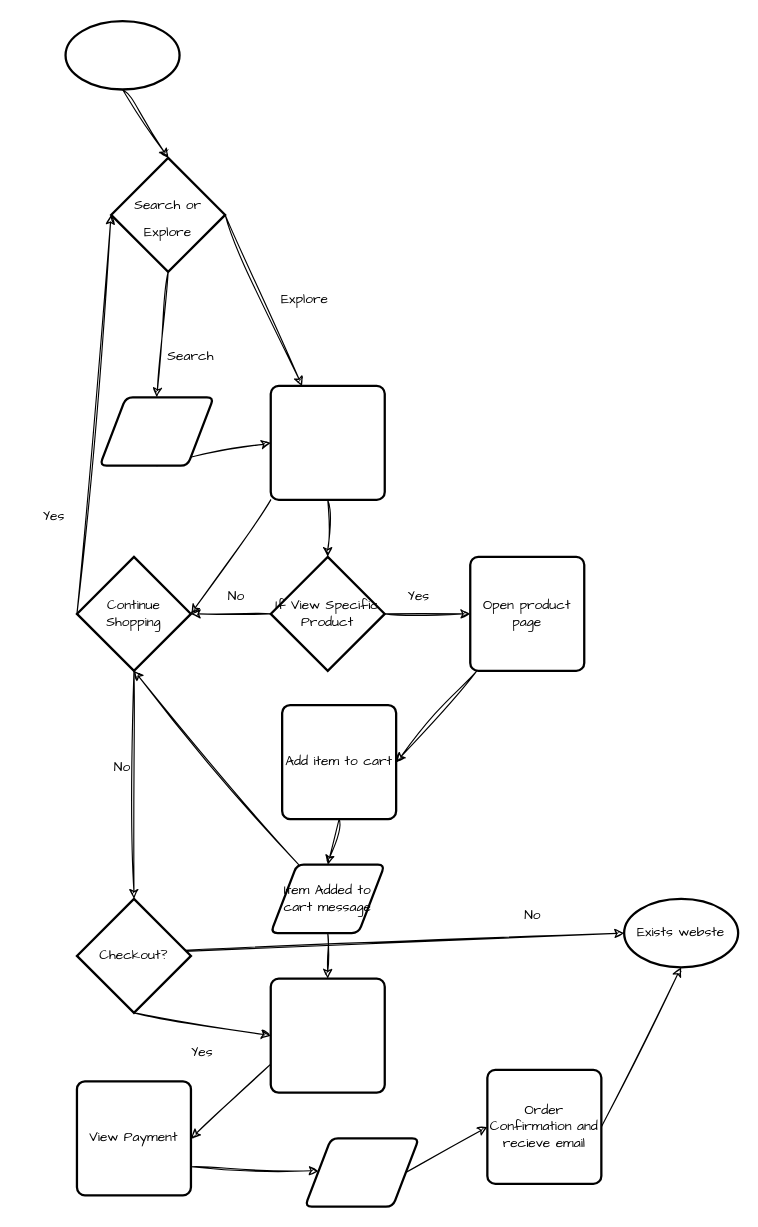
Some shapes in this 758 by 1227 pixel diagram are drawn without their labels. Each missing label, with the centre of its shape:
Enter payment information: point 361,1172
Provide input to website for search: point 156,431
Start: point 122,54
View cart: point 327,1035
Viewing Products: point 327,442
